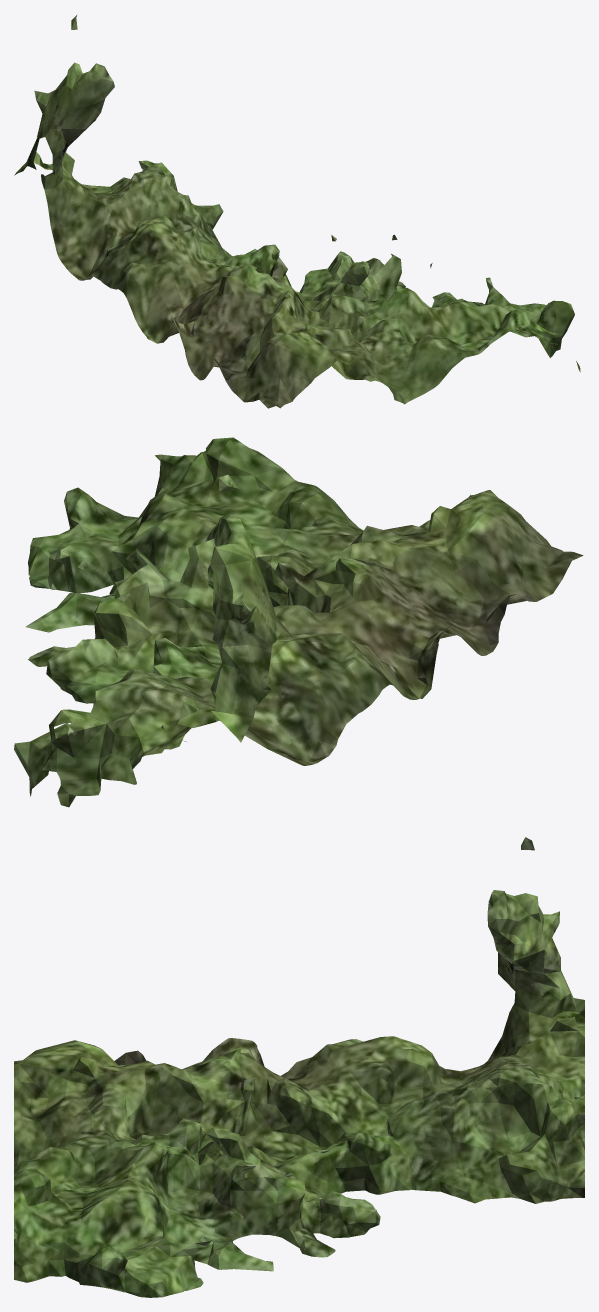
The picture shows the model from 3 angles, top to bottom: view 1: azimuth 30°, elevation 25°; view 2: azimuth 150°, elevation 25°; view 3: azimuth 270°, elevation 25°; orthographic projection. The views are drawn at different scales.
Size of the model in its own units: 2.33 by 1.66 by 2.95.
Materials: 3 (3 with a texture image).
